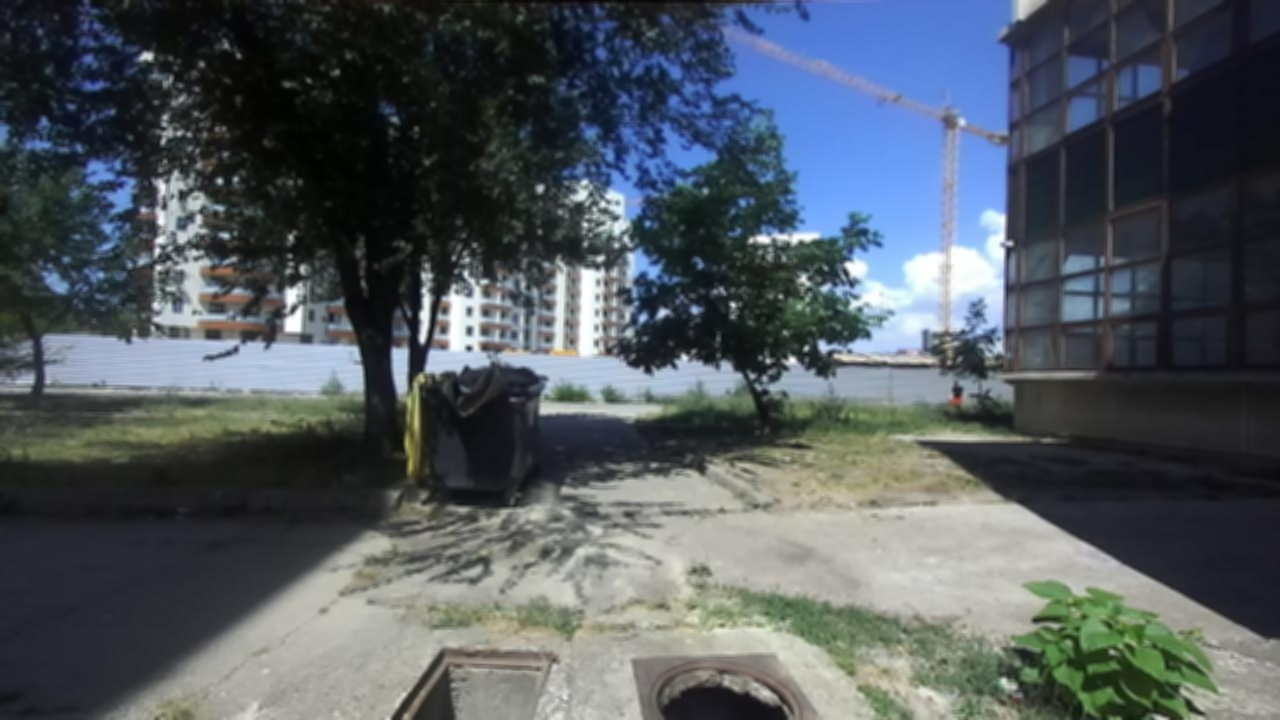drain: (383, 644, 559, 719), (649, 659, 805, 717)
